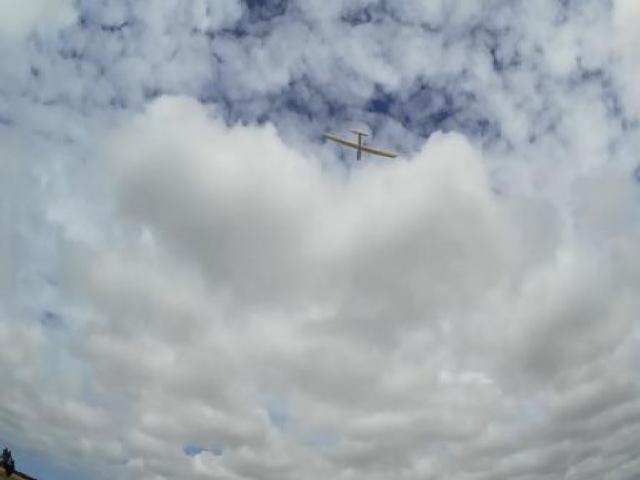uav: (320, 122, 402, 172)
